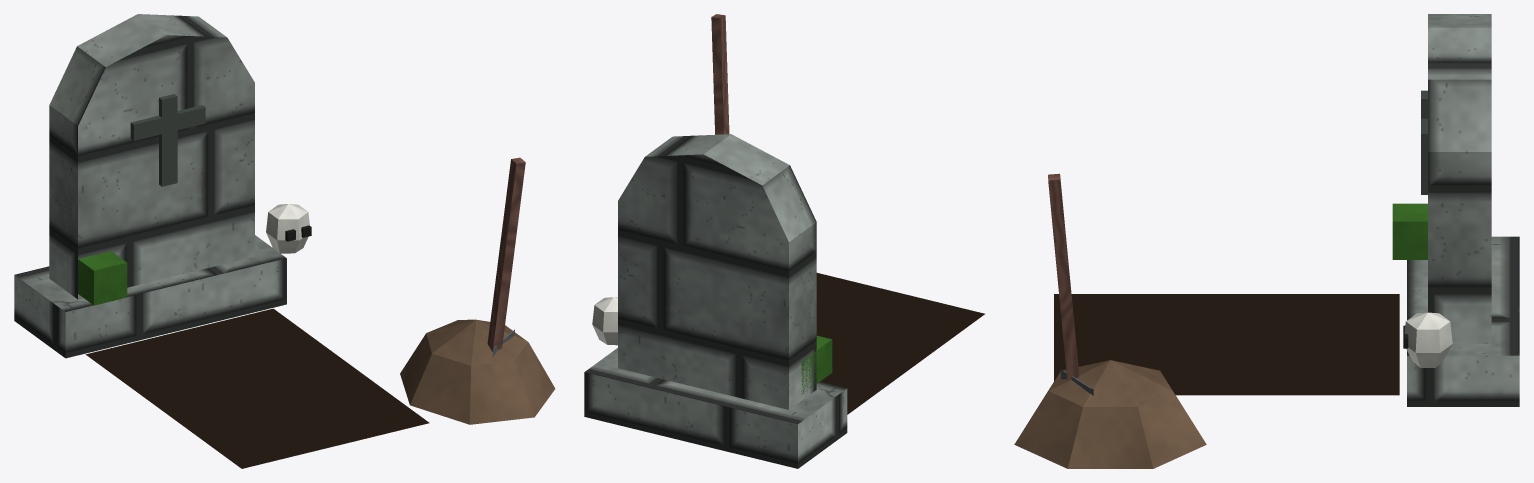
The model's file is tomb_empty.glb.
3 views of the same model, side by side, from view 1: azimuth 30°, elevation 25°; view 2: azimuth 150°, elevation 25°; view 3: azimuth 270°, elevation 25° (orthographic). The views are drawn at different scales.
Visible parts, largest first — view 1: base_mesh; view 2: base_mesh; view 3: base_mesh.
Boxes of the visible parts, x1,y1,x2,y2 form: base_mesh: (14,14,555,468); base_mesh: (584,14,984,468); base_mesh: (1014,14,1519,468).
Bounding box in the file's own units: 0.6081 × 0.5 × 0.7165.
9 materials, 6 textured.
